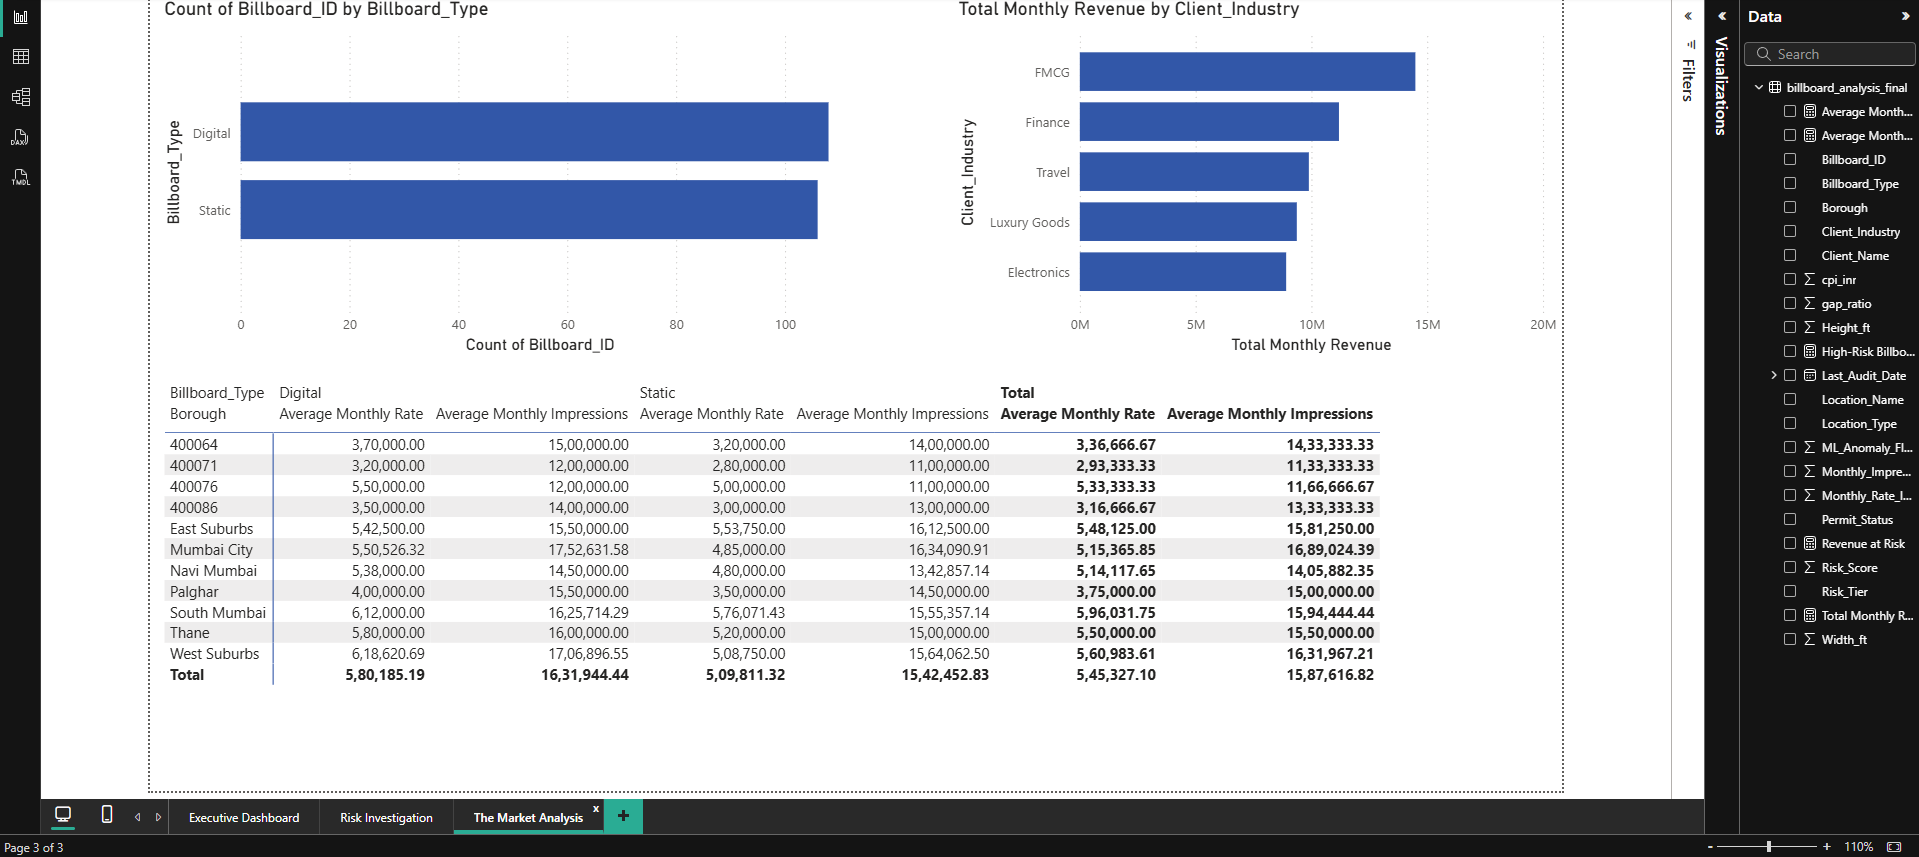

This screenshot's page, from the dashboard's own definition file:
{"tool":"powerbi","page":{"name":"The Market Analysis","canvas":[1280,720],"ordinal":2},"visuals":[{"type":"barChart","fields":{"Category":["billboard_analysis_final.Billboard_Type"],"Y":["CountNonNull(billboard_analysis_final.Billboard_ID)"]},"box":[8,0,632,328],"z":0},{"type":"barChart","fields":{"Category":["billboard_analysis_final.Client_Industry"],"Y":["billboard_analysis_final.Total Monthly Revenue"]},"box":[728,0,552,328],"z":1000},{"type":"pivotTable","fields":{"Rows":["billboard_analysis_final.Borough"],"Columns":["billboard_analysis_final.Billboard_Type"],"Values":["billboard_analysis_final.Average Monthly Rate","billboard_analysis_final.Average Monthly Impressions"]},"box":[8,344,1272,376],"z":2000}]}

Visuals, with their boxes on the page's 1280x720 design canvas (x1, y1, x2, y2). These are canvas units, not pixel positions in the 1919x857 screenshot, which may show the page scaled, cropped or inside an application window:
barChart - billboard_analysis_final.Billboard_Type x CountNonNull(billboard_analysis_final.Billboard_ID): (left=8, top=0, right=640, bottom=328)
barChart - billboard_analysis_final.Client_Industry x billboard_analysis_final.Total Monthly Revenue: (left=728, top=0, right=1280, bottom=328)
pivotTable - billboard_analysis_final.Borough x billboard_analysis_final.Billboard_Type: (left=8, top=344, right=1280, bottom=720)
